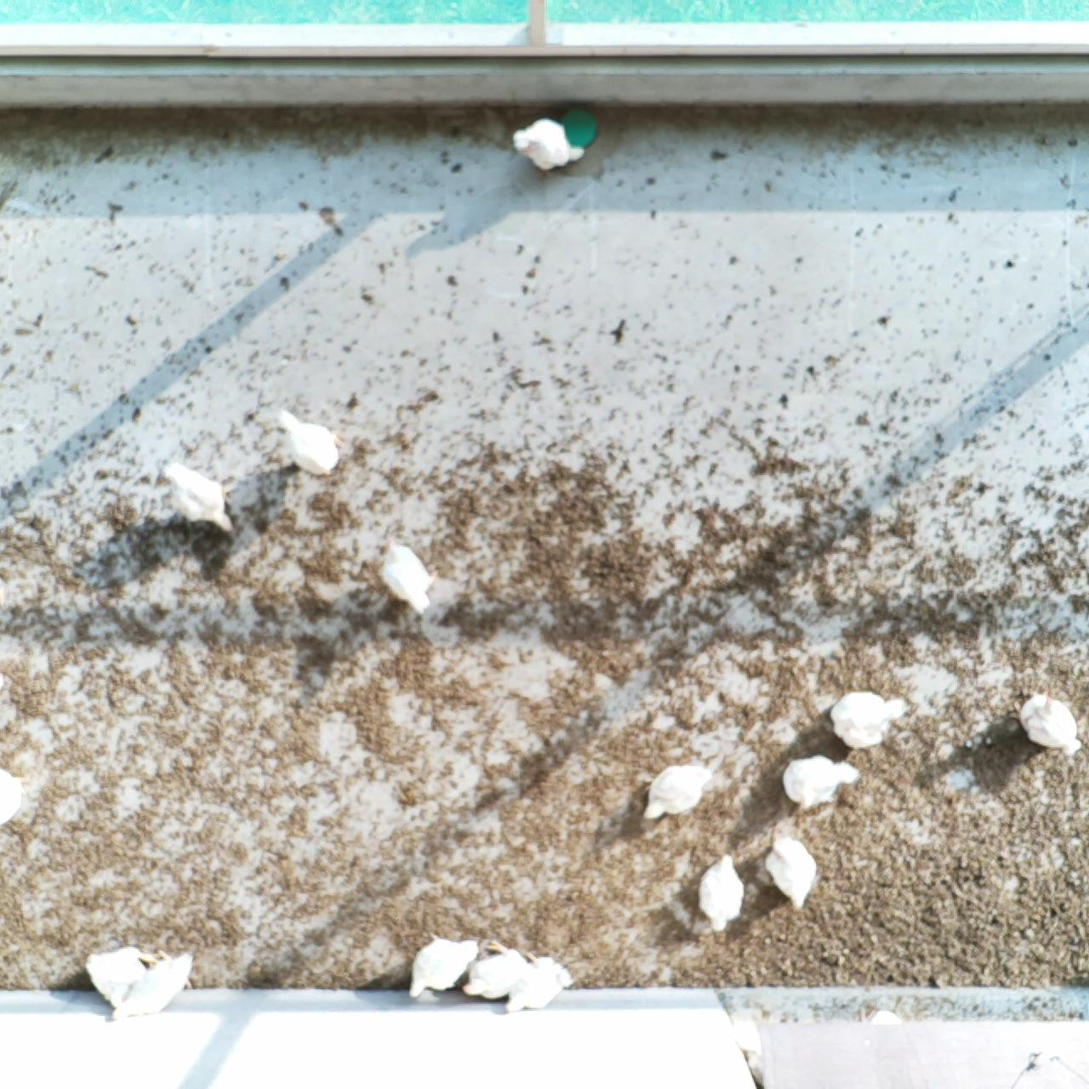chicken: (151, 455, 237, 532), (110, 949, 196, 1021), (499, 943, 575, 1020), (266, 405, 343, 479), (830, 688, 911, 752), (408, 931, 482, 999), (376, 535, 438, 614), (1015, 689, 1083, 759), (82, 944, 160, 1004), (507, 114, 589, 171), (462, 935, 533, 999), (767, 831, 820, 916), (783, 752, 861, 809), (641, 760, 710, 821), (696, 850, 747, 931), (0, 758, 22, 826)
